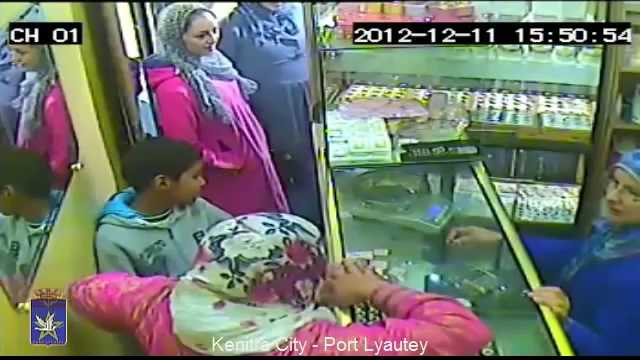face: (604, 160, 639, 230), (165, 163, 205, 207), (185, 12, 219, 55), (4, 43, 38, 76)
